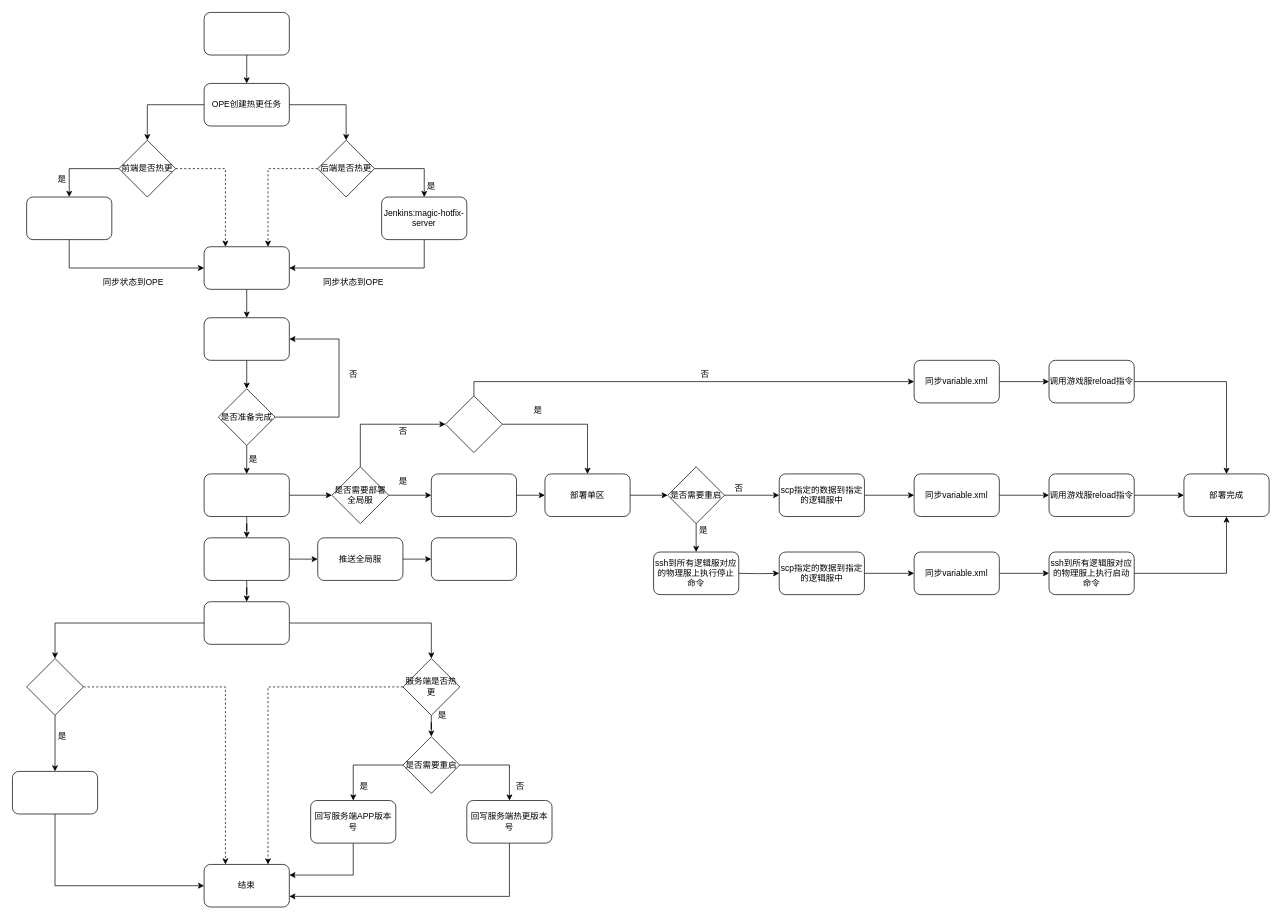
Some shapes in this 1282 by 919 pixel diagram are drawn without their labels. The centre of each missing label's shape, as x and y in pixels:
Jenkins:magic-hotfix: point 246,33
Jenkins:magic-hotfix-client: point 69,218
Jenkins的打包状态: point 246,267
回写OPE版本号: point 246,622
回写客户端热更版本号: point 55,792
客户端是否热更: point 54,686
推送到正式服: point 246,558
推送单区: point 474,558
是否需要部署游戏服: point 473,424
等待打包状态完成: point 246,338
部署全局服: point 474,495
部署到测试环境: point 246,495
